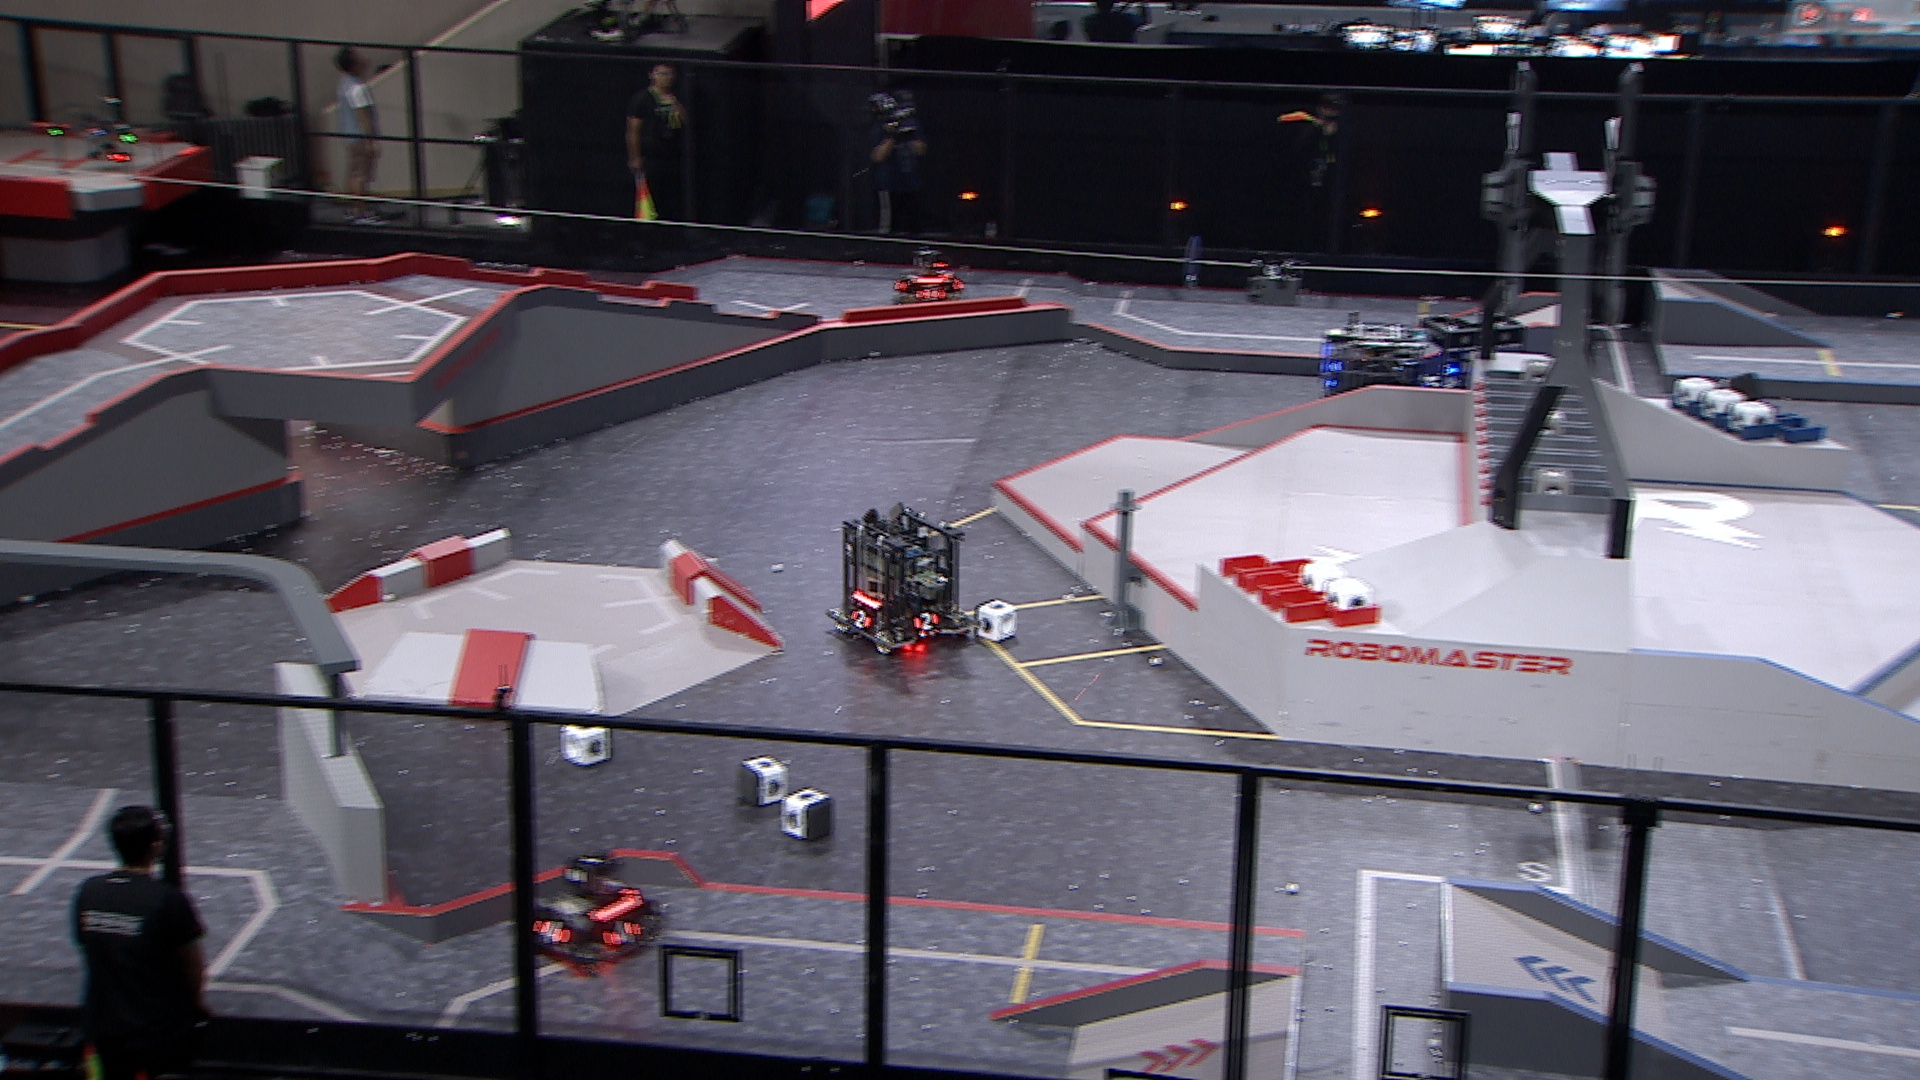armor: (603, 920, 647, 949), (534, 918, 575, 945), (913, 608, 942, 632), (851, 608, 876, 629), (918, 286, 945, 305)
car: (823, 500, 975, 655), (509, 855, 670, 972), (1419, 311, 1532, 423), (1320, 318, 1428, 429), (887, 248, 967, 311)
